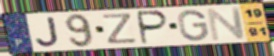9: (63, 13, 95, 48)
G: (177, 9, 210, 42)
J: (34, 16, 61, 48)
N: (205, 6, 248, 42)
P: (137, 9, 171, 45)
Z: (101, 12, 139, 46)
